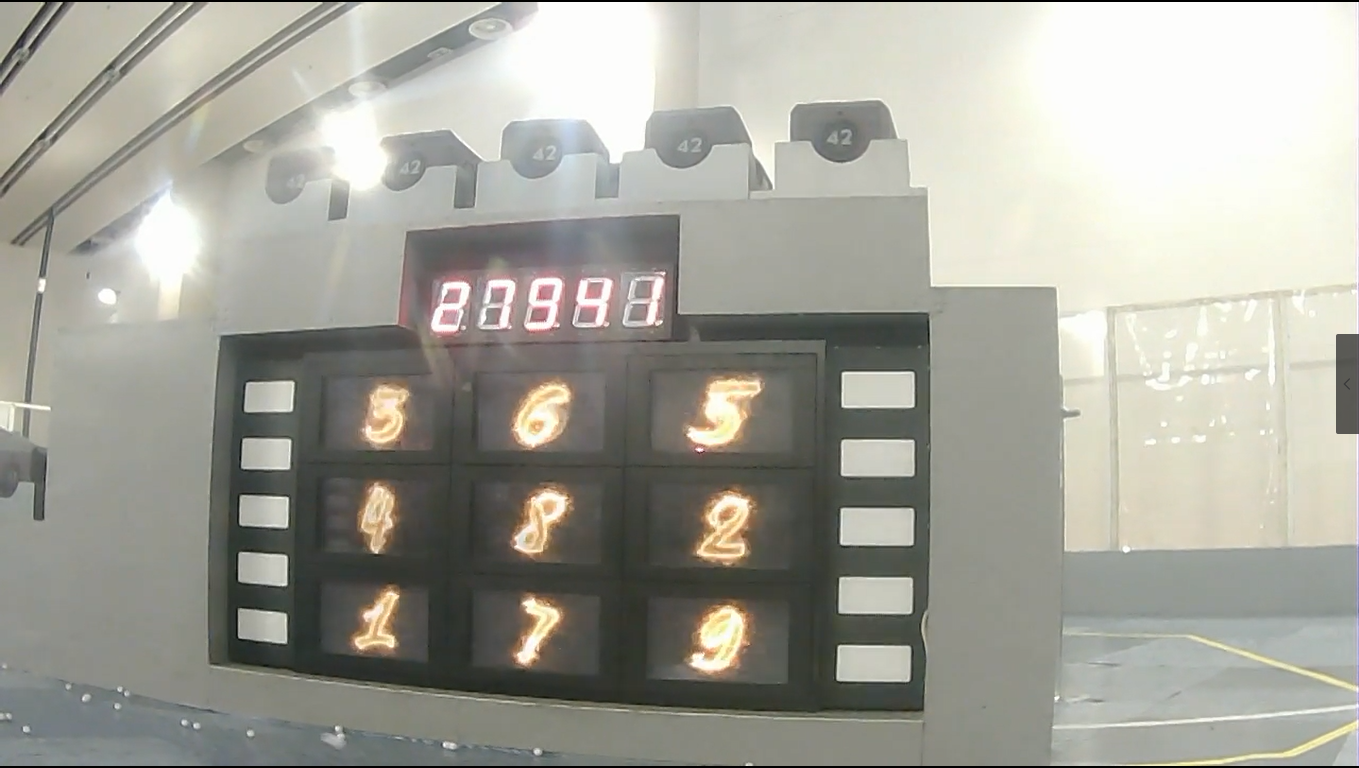box: (364, 129, 475, 211), (496, 112, 608, 189), (787, 97, 894, 175), (647, 101, 754, 178), (260, 145, 335, 209)
